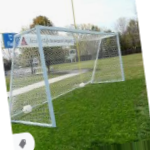goals: (4, 24, 126, 129)
